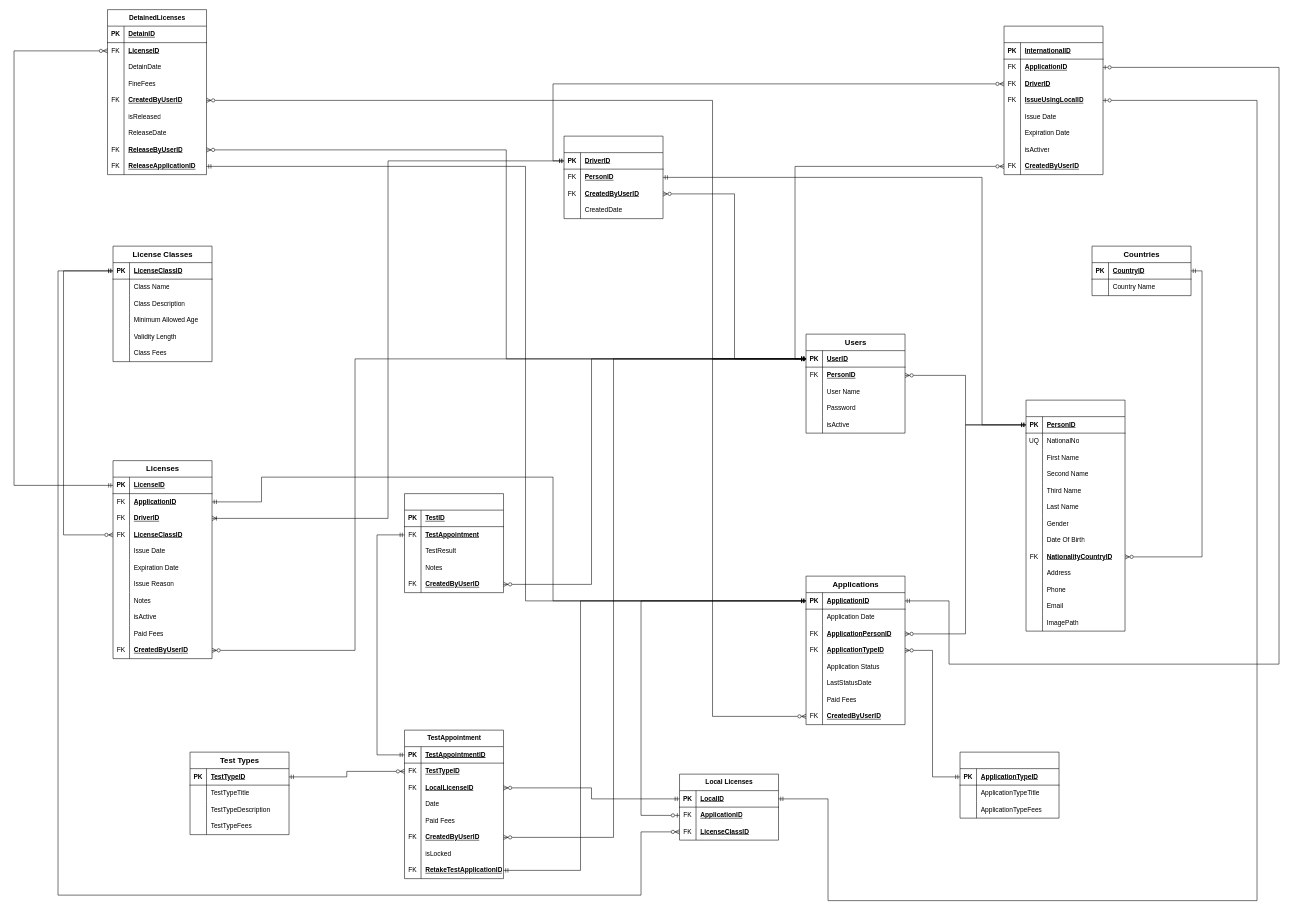
The diagram is 1294 pixels wide and 915 high, and some of its shapes have lost their labels. Here are the shapes that lost their labels. From the top down, the box of each, then its label:
(1003, 26, 1103, 175): International Licenses
(563, 136, 663, 219): Drivers
(1025, 400, 1125, 631): People
(404, 493, 504, 593): Tests
(959, 752, 1059, 818): Application Types
